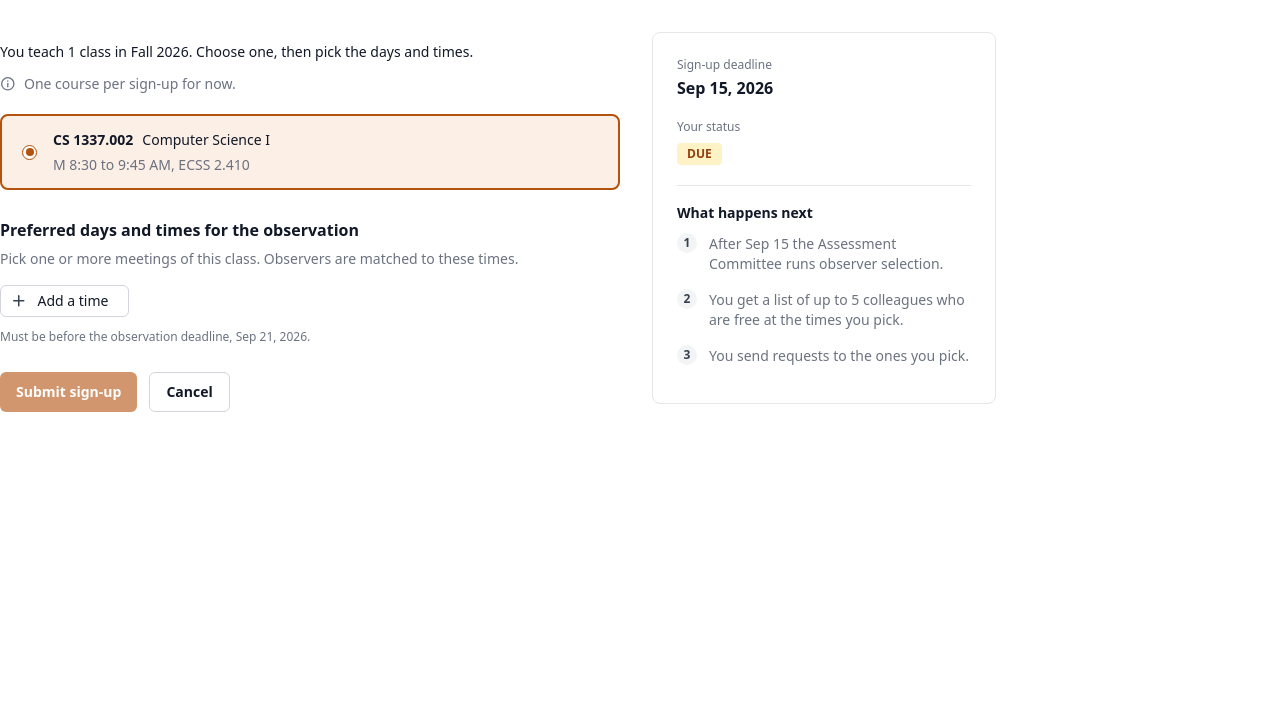
Scenario: excludes class meetings outside the course term 2026-09-22 to 2026-12-12
Click the button "Add a time".
click(65, 301)  # box [0,285,130,317]
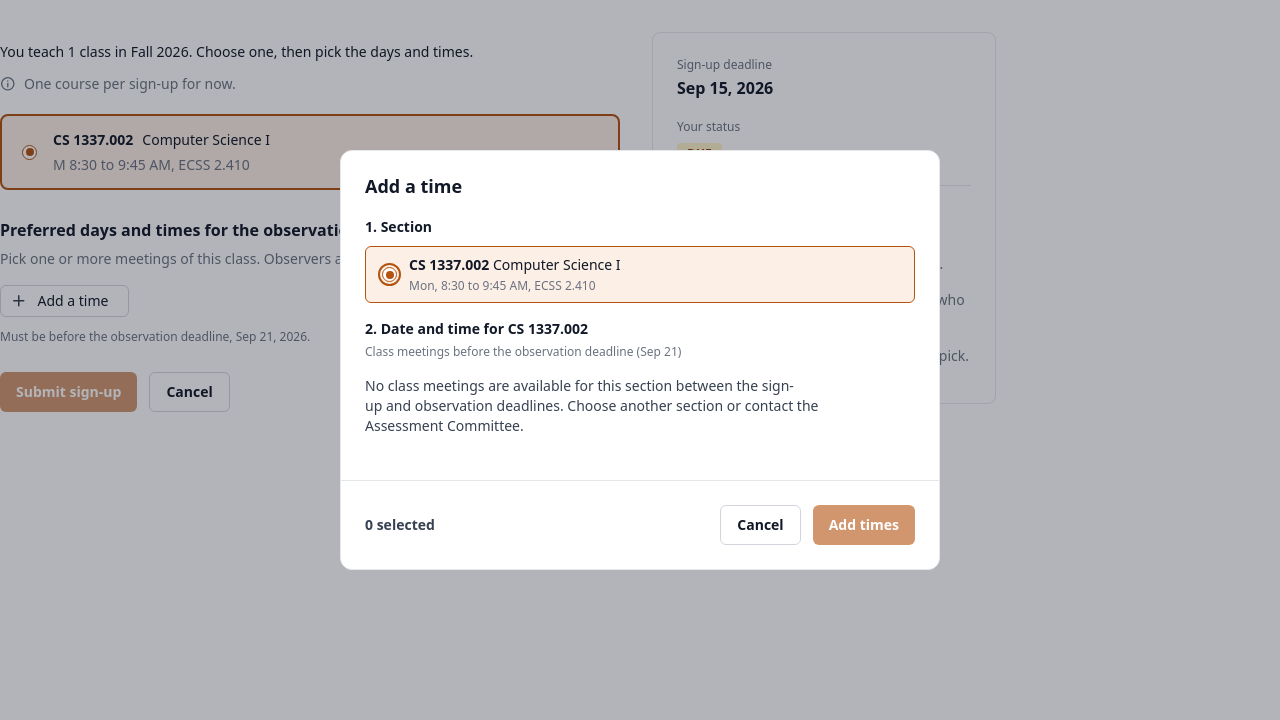
Expected: the text "No class meetings are available" is shown, [365,376,818,435]
